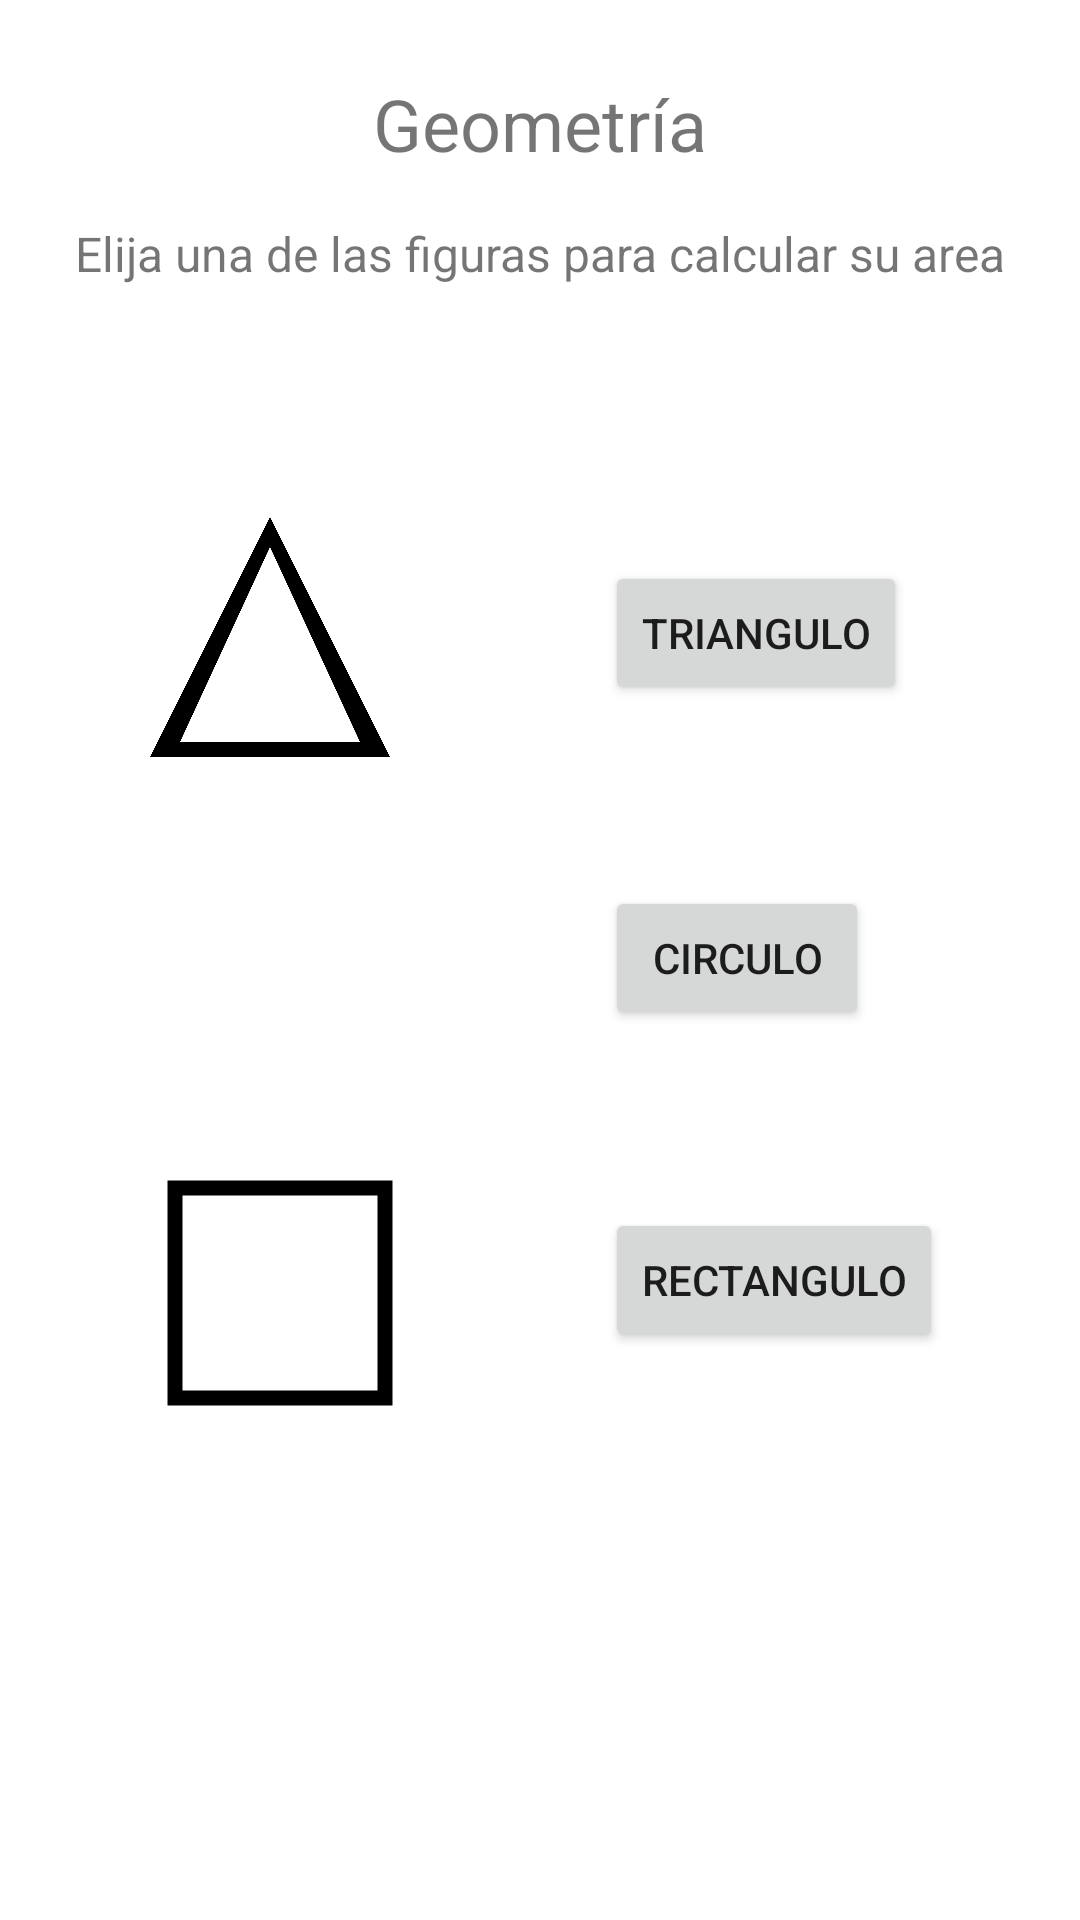

Locate icon controls on the screen. Image size 1080×1920, boxes as (x1, y1, x2, y2).
cuadrado: (167, 1180, 393, 1406)
triangulo: (150, 518, 390, 757)
